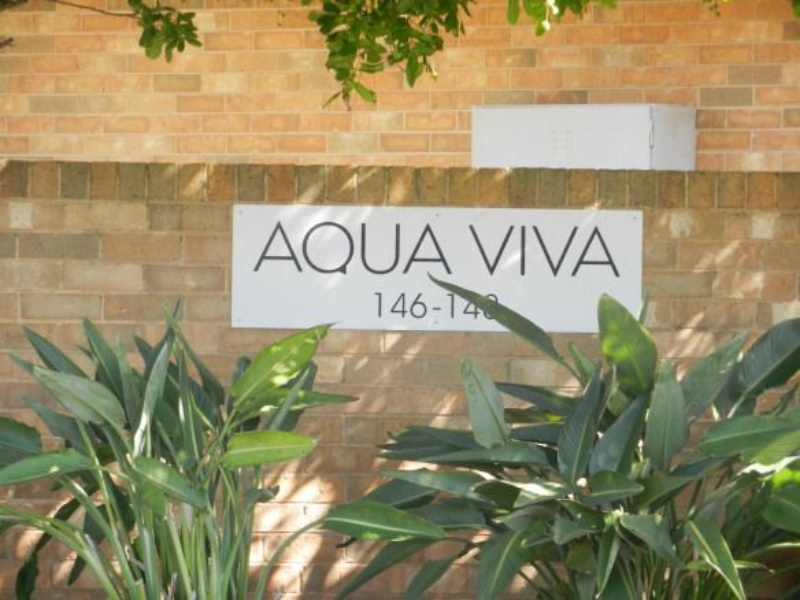text: (289, 221, 304, 276), (305, 221, 320, 276), (321, 221, 336, 276), (337, 221, 352, 276), (353, 221, 368, 276), (369, 221, 384, 276), (385, 221, 400, 276), (401, 221, 416, 276), (417, 221, 432, 276), (433, 221, 448, 276), (481, 224, 496, 279), (497, 224, 512, 279), (513, 224, 528, 279), (529, 224, 544, 279), (545, 224, 560, 279), (561, 224, 576, 279), (577, 224, 592, 279), (593, 224, 608, 279), (466, 224, 480, 279), (609, 224, 622, 279), (277, 221, 288, 276), (449, 291, 464, 322), (465, 291, 480, 322), (481, 291, 496, 322), (385, 291, 400, 320), (401, 291, 416, 320), (372, 291, 384, 320), (417, 291, 428, 320), (449, 221, 454, 276), (443, 291, 448, 322), (497, 291, 501, 322), (433, 306, 443, 311), (431, 306, 432, 311)
